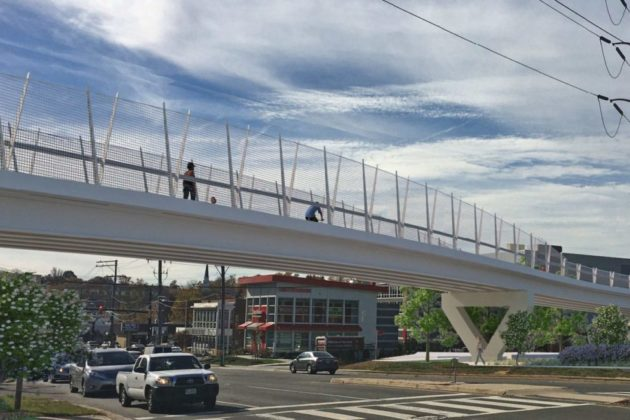bridge: (1, 66, 625, 317)
